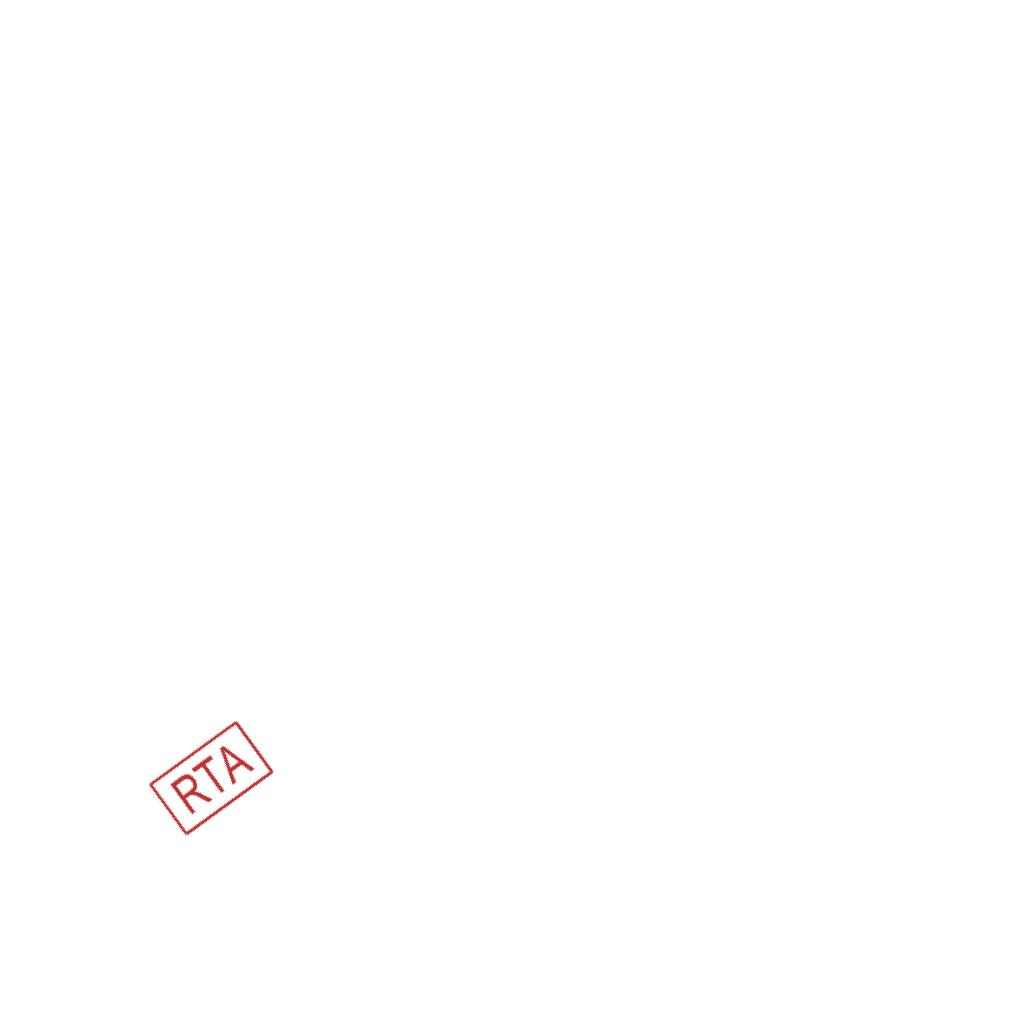Ruf-und_Abstelltaster: (144, 717, 277, 841)
